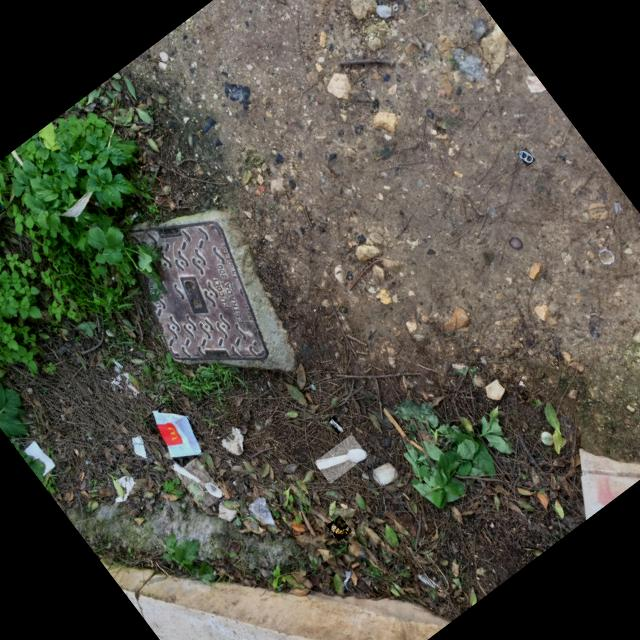Cigarette: (329, 418, 345, 431)
Other container: (174, 463, 223, 497), (318, 448, 367, 470)
Other plastic: (133, 436, 147, 458), (330, 522, 352, 535)
Paper: (154, 410, 203, 457)
Plastic film: (249, 498, 277, 526)
Pop tab: (521, 150, 535, 163)
